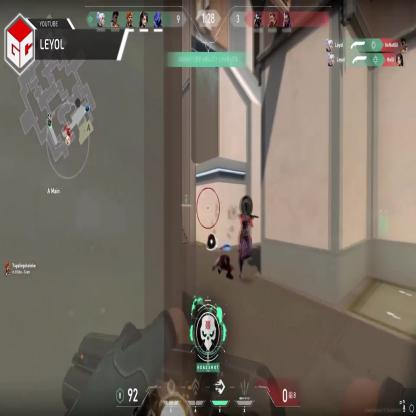enemy: (238, 194, 254, 279)
enemy_head: (241, 198, 252, 216)
